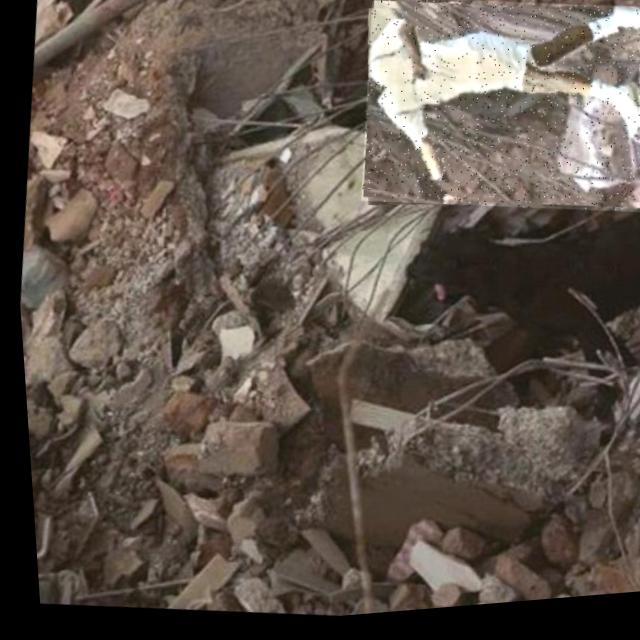Person in Rubble: (346, 0, 640, 242)
